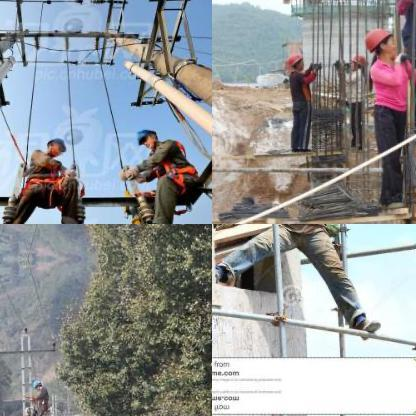Helmet: (362, 25, 398, 59), (134, 121, 158, 148), (45, 134, 65, 156), (284, 52, 304, 70), (348, 50, 366, 66), (31, 376, 43, 388)
